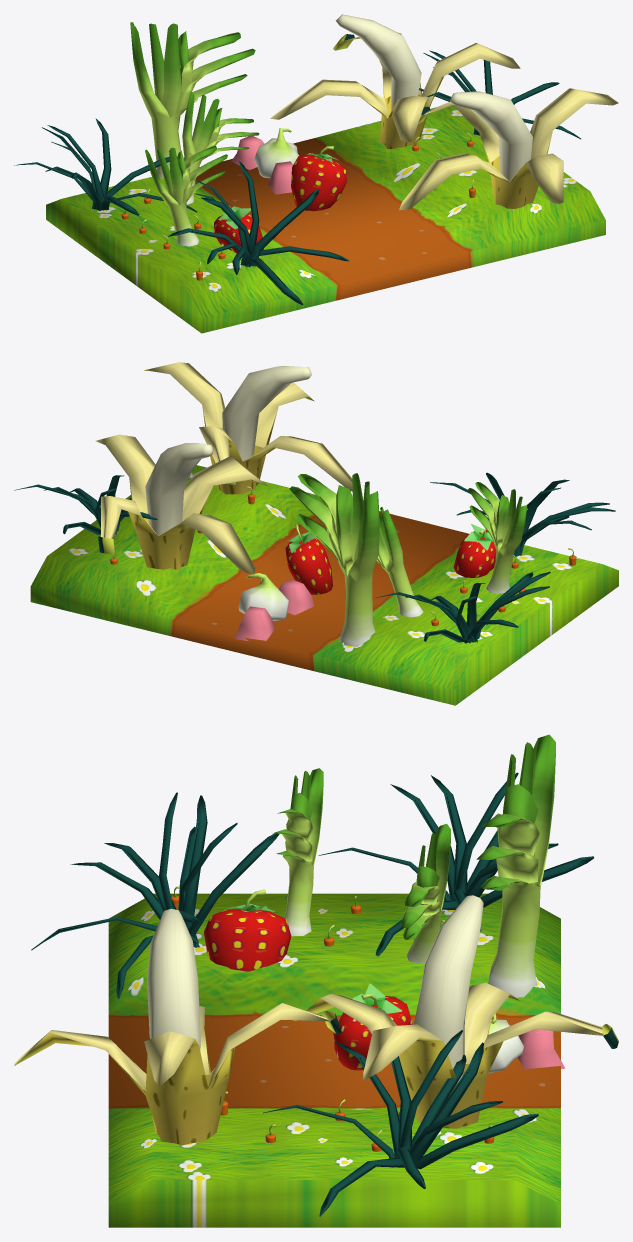
Rendered from D_block_09.FBX.
The picture shows the model from 3 angles, top to bottom: view 1: azimuth 30°, elevation 25°; view 2: azimuth 150°, elevation 25°; view 3: azimuth 270°, elevation 25°; orthographic projection. The views are drawn at different scales.
Parts seen in each view (by area): view 1: biome_09; view 2: biome_09; view 3: biome_09.
Boxes of the visible parts, x1,y1,x2,y2 form: biome_09: (14,14,618,333); biome_09: (14,362,618,705); biome_09: (14,734,618,1227).
Size of the model in its own units: 1506 by 511 by 1058.
